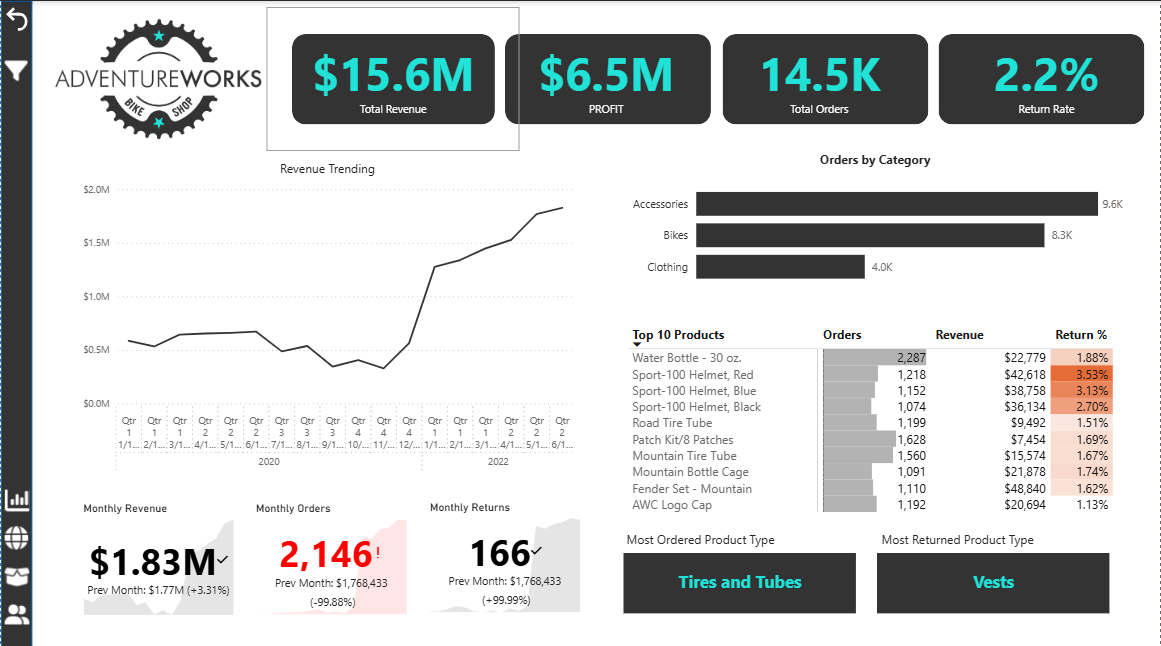

This screenshot's page, from the dashboard's own definition file:
{"tool":"powerbi","page":{"name":"Exec Dashboard","canvas":[1280,720],"ordinal":0},"visuals":[{"type":"image","title":"AW Logo","box":[34.5,0,279.3,172.4],"z":0},{"type":"shape","box":[320.7,36.8,224.1,100],"z":0,"group":"g1"},{"type":"card","fields":{"Values":["Min(Product Subcategories Lookup.SubcategoryName)"]},"box":[686.6,608.9,256.7,66.7],"z":0,"group":"g2"},{"type":"card","fields":{"Values":["Min(Product Subcategories Lookup.SubcategoryName)"]},"box":[966.7,608.9,256.7,66.7],"z":0,"group":"g3"},{"type":"shape","title":"Left Nav Background","box":[0,0,34.5,720.7],"z":1000},{"type":"shape","box":[556.3,36.8,227.6,100],"z":1000,"group":"g1"},{"type":"textbox","box":[685.7,579,218.3,31],"z":1000,"group":"g2"},{"type":"textbox","box":[967.2,579,216.9,35.2],"z":1000,"group":"g3"},{"type":"group","id":"g1","title":"KPI Backgrounds","box":[320.7,36.8,941.4,100],"z":2000},{"type":"shape","box":[1034.5,36.8,227.6,100],"z":2000,"group":"g1"},{"type":"card","fields":{"Values":["Measure Table.Total Profit"]},"box":[528.7,6.9,279.3,158.6],"z":3000},{"type":"shape","box":[795.4,36.8,227.6,100],"z":3000,"group":"g1"},{"type":"card","fields":{"Values":["Measure Table.Total Revenue"]},"box":[293.1,6.9,279.3,158.6],"z":4000},{"type":"card","fields":{"Values":["Measure Table.Total Orders"]},"box":[764.4,6.9,279.3,158.6],"z":5000},{"type":"card","fields":{"Values":["Measure Table.Return Rate"]},"box":[1034.5,6.9,237.9,158.6],"z":6000},{"type":"lineChart","title":"Revenue Trending","fields":{"Category":["Calendar Lookup.Year","Calendar Lookup.Date Hierarchy.Start of Month","Calendar Lookup.Start of Quarter.Variation.Date Hierarchy.Quarter"],"Y":["Measure Table.Total Revenue"]},"box":[84.5,176.1,552.1,353.5],"z":7000},{"type":"kpi","title":"Monthly Revenue","fields":{"Goal":["Measure Table.Previous Month Revenue"],"Indicator":["Measure Table.Total Revenue"],"TrendLine":["Calendar Lookup.Start of Month"]},"box":[86,552.6,175.4,129.8],"z":8000},{"type":"kpi","title":"Monthly Returns","fields":{"Goal":["Measure Table.Previous Month Revenue"],"Indicator":["Measure Table.Total Returns"],"TrendLine":["Calendar Lookup.Start of Month"]},"box":[469.4,551,175.5,128.6],"z":9000},{"type":"kpi","title":"Monthly Orders","fields":{"Goal":["Measure Table.Previous Month Revenue"],"Indicator":["Measure Table.Total Orders"],"TrendLine":["Calendar Lookup.Start of Month"]},"box":[277.2,552.6,176.3,128.9],"z":10000},{"type":"clusteredBarChart","title":"Orders by Category","fields":{"Category":["Product Categories Lookup.CategoryName"],"Y":["Measure Table.Total Orders"]},"box":[687.8,165.9,556.1,161],"z":11000},{"type":"pivotTable","fields":{"Rows":["Product Lookup.ProductName"],"Values":["Measure Table.Total Orders","Measure Table.Total Revenue","Measure Table.Return Rate"]},"box":[687.8,353.7,556.1,224.4],"z":12000},{"type":"group","id":"g2","title":"Group 1","box":[685.7,579,257.6,96.6],"z":13000},{"type":"group","id":"g3","title":"Group 1","box":[966.7,579,256.7,96.6],"z":14000},{"type":"actionButton","box":[0,0,35.6,40],"z":15000},{"type":"actionButton","box":[0,524.4,35.6,53.3],"z":16000},{"type":"actionButton","box":[0,608.9,35.6,53.3],"z":17000},{"type":"actionButton","box":[0,651.1,35.6,53.3],"z":18000},{"type":"actionButton","box":[0,566.7,34,52],"z":19000},{"type":"actionButton","box":[0,56.4,33.3,41],"z":20000}]}

Visuals, with their boxes on the page's 1280x720 design canvas (x1, y1, x2, y2). These are canvas units, not pixel positions in the 1161x646 screenshot, which may show the page scaled, cropped or inside an application window:
"AW Logo" image: BBox(34, 0, 314, 172)
shape: BBox(321, 37, 545, 137)
card - Min(Product Subcategories Lookup.SubcategoryName): BBox(687, 609, 943, 676)
card - Min(Product Subcategories Lookup.SubcategoryName): BBox(967, 609, 1223, 676)
"Left Nav Background" shape: BBox(0, 0, 34, 721)
shape: BBox(556, 37, 784, 137)
textbox: BBox(686, 579, 904, 610)
textbox: BBox(967, 579, 1184, 614)
"KPI Backgrounds" group: BBox(321, 37, 1262, 137)
shape: BBox(1034, 37, 1262, 137)
card - Measure Table.Total Profit: BBox(529, 7, 808, 166)
shape: BBox(795, 37, 1023, 137)
card - Measure Table.Total Revenue: BBox(293, 7, 572, 166)
card - Measure Table.Total Orders: BBox(764, 7, 1044, 166)
card - Measure Table.Return Rate: BBox(1034, 7, 1272, 166)
"Revenue Trending" lineChart: BBox(84, 176, 637, 530)
"Monthly Revenue" kpi: BBox(86, 553, 261, 682)
"Monthly Returns" kpi: BBox(469, 551, 645, 680)
"Monthly Orders" kpi: BBox(277, 553, 454, 682)
"Orders by Category" clusteredBarChart: BBox(688, 166, 1244, 327)
pivotTable - Product Lookup.ProductName x Measure Table.Total Orders: BBox(688, 354, 1244, 578)
"Group 1" group: BBox(686, 579, 943, 676)
"Group 1" group: BBox(967, 579, 1223, 676)
actionButton: BBox(0, 0, 36, 40)
actionButton: BBox(0, 524, 36, 578)
actionButton: BBox(0, 609, 36, 662)
actionButton: BBox(0, 651, 36, 704)
actionButton: BBox(0, 567, 34, 619)
actionButton: BBox(0, 56, 33, 97)
